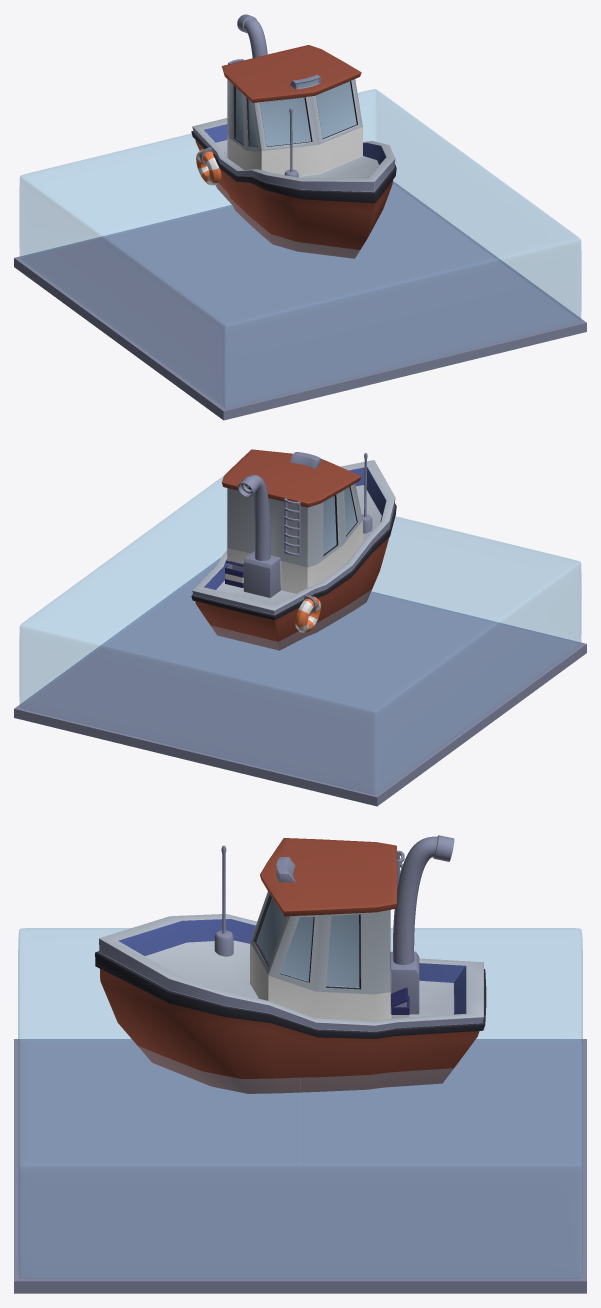
Rendered from boat.glb.
3 renders of one model, top to bottom at view 1: azimuth 30°, elevation 25°; view 2: azimuth 150°, elevation 25°; view 3: azimuth 270°, elevation 25°, orthographic. The views are drawn at different scales.
Parts seen in each view (by area): view 1: Plane, Plane.001, Boat Full; view 2: Plane, Plane.001, Boat Full; view 3: Plane, Plane.001, Boat Full.
Part boxes in pixels (bbox=[...]): Plane: bbox=[19, 89, 581, 408]; Plane.001: bbox=[14, 181, 586, 420]; Boat Full: bbox=[191, 14, 396, 258]; Plane: bbox=[19, 476, 581, 794]; Plane.001: bbox=[14, 558, 586, 806]; Boat Full: bbox=[191, 449, 396, 650]; Plane: bbox=[18, 928, 582, 1278]; Plane.001: bbox=[14, 1039, 586, 1293]; Boat Full: bbox=[95, 835, 486, 1093].
Size of the model in its own units: 9 by 5.82 by 9.
